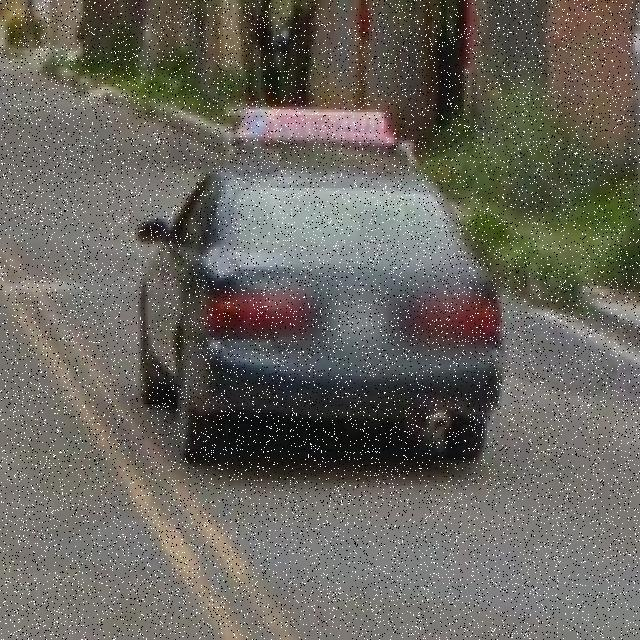cars: (135, 92, 514, 486)
